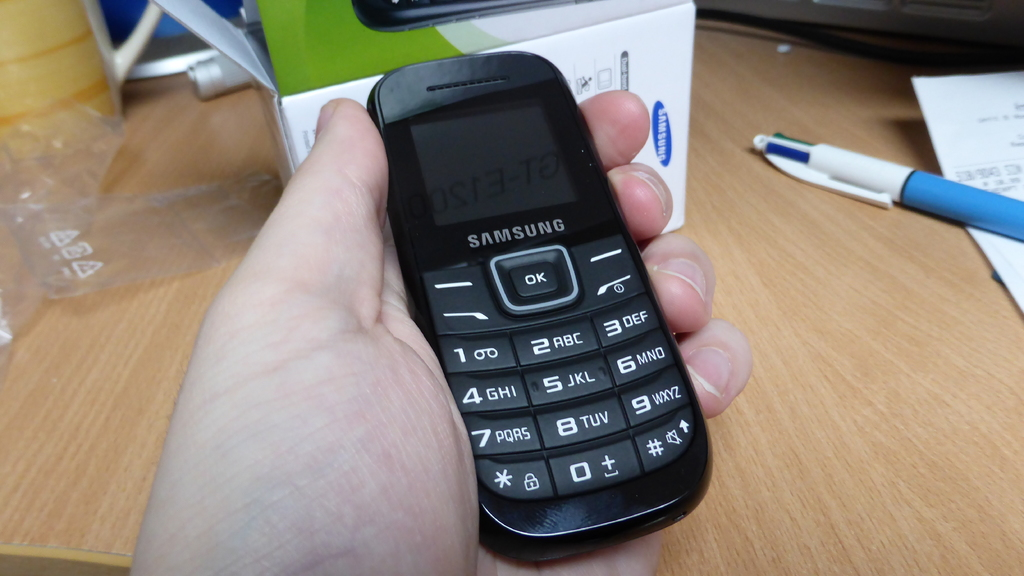Pen: (751, 130, 1023, 243)
